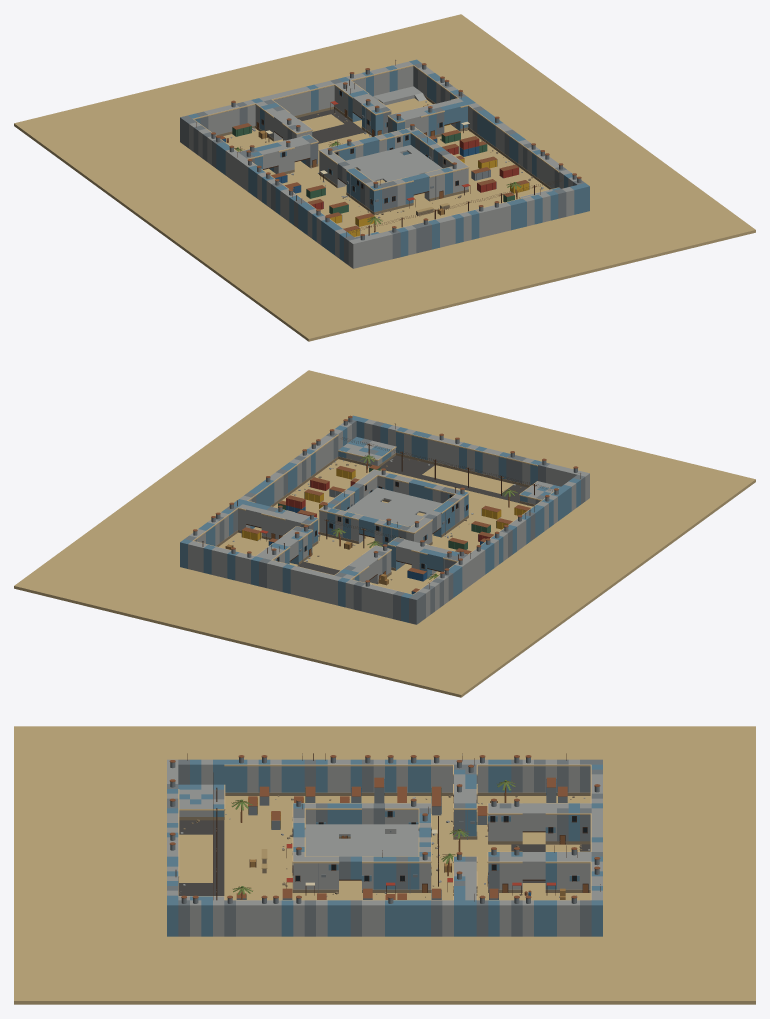
The model's file is harbor.glb.
3 renders of one model, top to bottom at view 1: azimuth 30°, elevation 25°; view 2: azimuth 150°, elevation 25°; view 3: azimuth 270°, elevation 25°, orthographic. The views are drawn at different scales.
Parts seen in each view (by area): view 1: world_sand_ground, world_concrete, world_plaster_blue, world_metal, decor_sand_wall, decor_rust_metal, decor_metal, decor_stone_base, decor_wood_dark, decor_asphalt, world_container_green, world_container_red (+1 smaller); view 2: world_sand_ground, world_concrete, world_plaster_blue, world_metal, decor_sand_wall, decor_rust_metal, decor_asphalt, decor_stone_base, decor_metal, decor_wood_dark, world_container_yellow; view 3: world_sand_ground, world_concrete, world_plaster_blue, world_metal, decor_sand_wall, decor_rust_metal, decor_metal, decor_stone_base, decor_asphalt, decor_wood_dark, decor_wood, decor_foliage.
Boxes of the visible parts, <box> form: world_sand_ground: <box>14,14,755,341</box>; world_concrete: <box>189,61,576,268</box>; world_plaster_blue: <box>188,59,589,261</box>; world_metal: <box>180,63,584,265</box>; decor_sand_wall: <box>192,65,559,237</box>; decor_rust_metal: <box>211,63,581,235</box>; decor_metal: <box>197,60,581,240</box>; decor_stone_base: <box>196,67,551,214</box>; decor_wood_dark: <box>196,60,560,237</box>; decor_asphalt: <box>297,109,365,143</box>; world_container_green: <box>232,126,514,213</box>; world_container_red: <box>311,139,518,209</box>; world_sand_ground: <box>14,370,755,697</box>; world_concrete: <box>188,419,589,618</box>; world_plaster_blue: <box>180,415,580,622</box>; world_metal: <box>185,419,585,624</box>; decor_sand_wall: <box>193,430,558,594</box>; decor_rust_metal: <box>193,415,578,591</box>; decor_asphalt: <box>297,455,527,574</box>; decor_stone_base: <box>216,433,535,583</box>; decor_metal: <box>193,418,577,592</box>; decor_wood_dark: <box>202,423,580,588</box>; world_container_yellow: <box>242,469,526,540</box>; world_sand_ground: <box>14,726,755,1004</box>; world_concrete: <box>167,759,602,936</box>; world_plaster_blue: <box>167,759,602,936</box>; world_metal: <box>167,759,602,936</box>; decor_sand_wall: <box>178,764,591,900</box>; decor_rust_metal: <box>169,755,600,899</box>; decor_metal: <box>170,754,600,903</box>; decor_stone_base: <box>178,775,590,897</box>; decor_asphalt: <box>179,820,590,895</box>; decor_wood_dark: <box>175,753,600,901</box>; decor_wood: <box>216,780,587,899</box>; decor_foliage: <box>231,780,515,894</box>.
Size of the model in its own units: 170 by 12.2 by 194.
